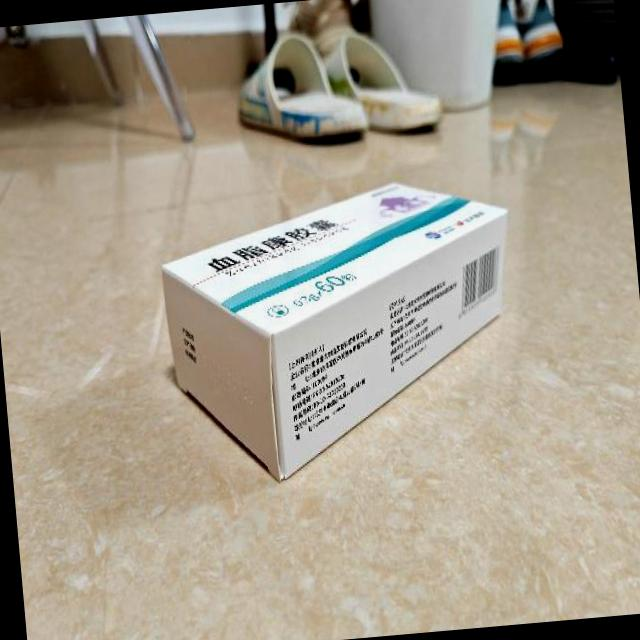box: (155, 170, 530, 490)
